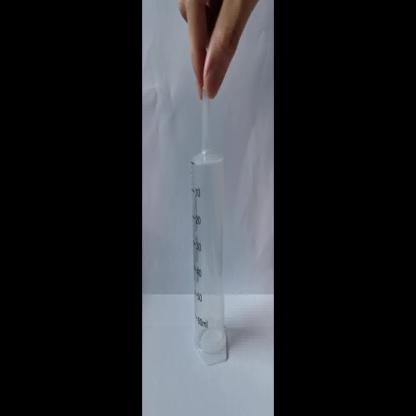dry: (189, 100, 235, 368)
